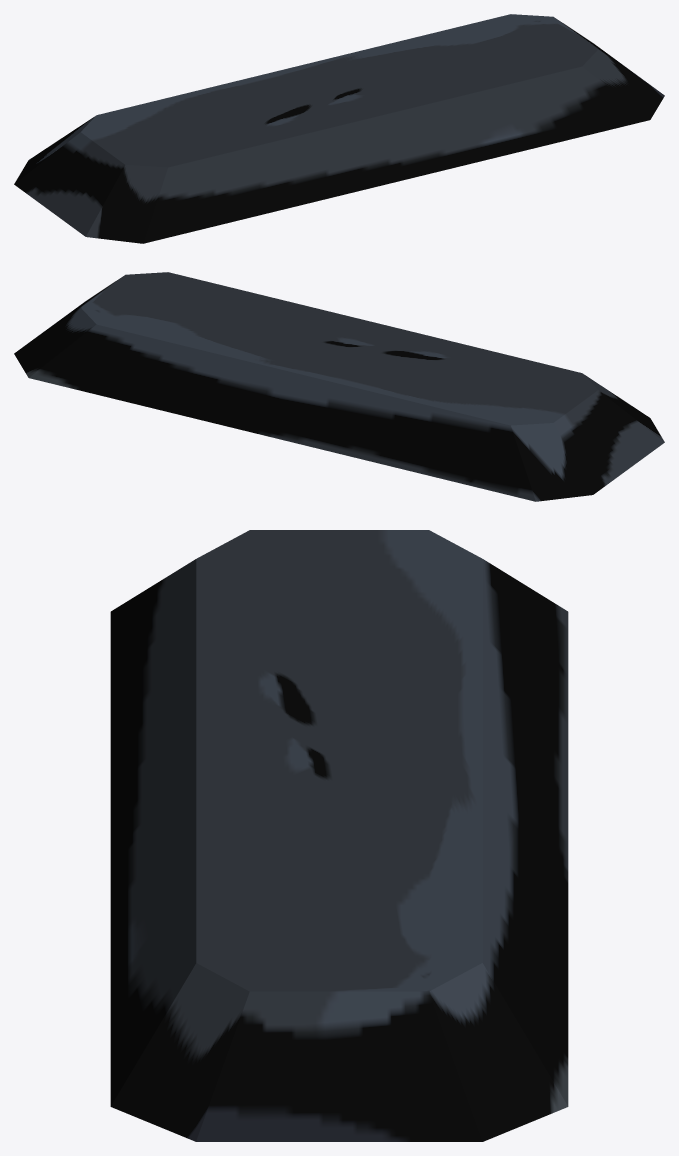
The model's file is DaC.fbx.
3 views of the same model, one above another, from view 1: azimuth 30°, elevation 25°; view 2: azimuth 150°, elevation 25°; view 3: azimuth 270°, elevation 25° (orthographic). The views are drawn at different scales.
Parts seen in each view (by area): view 1: DaC; view 2: DaC; view 3: DaC.
Part boxes in pixels (x1,y1,x2,y2): DaC: (14, 14, 664, 243); DaC: (14, 272, 664, 501); DaC: (110, 530, 568, 1141).
Size of the model in its own units: 0.7182 by 0.2458 by 0.0583.
1 material, 1 textured.
